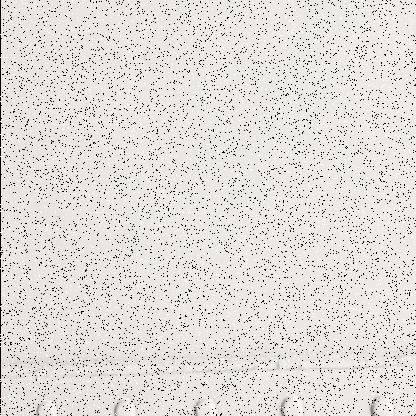Nocrack: (28, 0, 415, 411)
